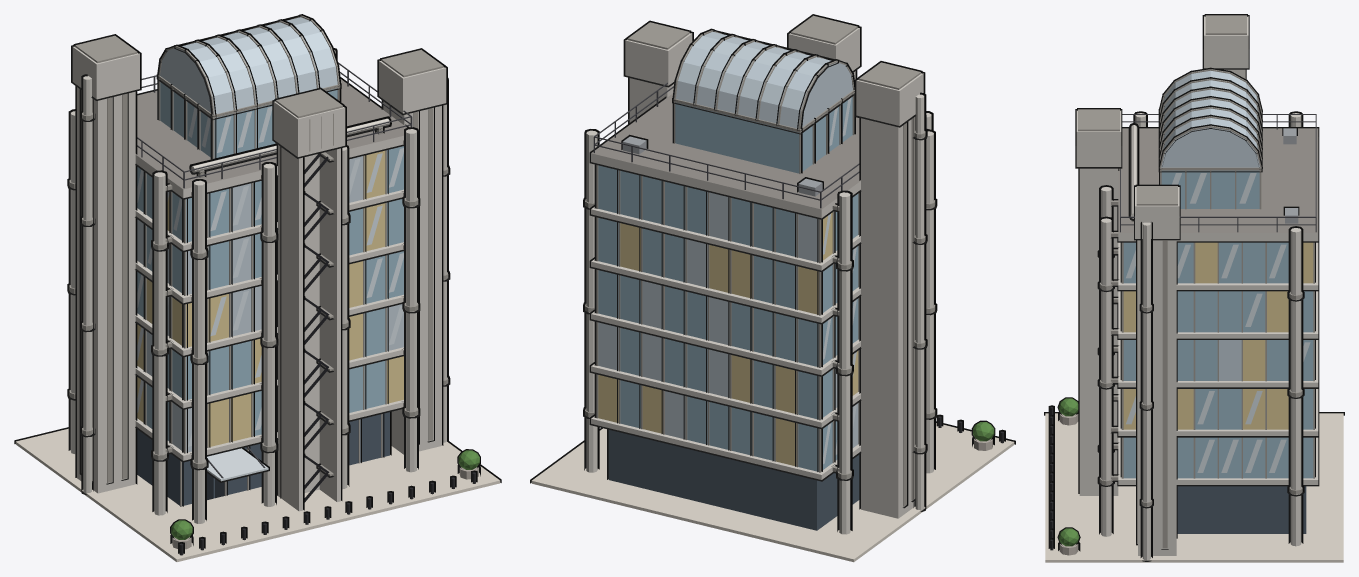
Rendered from OfisKulesi_karisik_1_3.fbx.
3 renders of one model, left to right at view 1: azimuth 30°, elevation 25°; view 2: azimuth 150°, elevation 25°; view 3: azimuth 270°, elevation 25°, orthographic. The views are drawn at different scales.
Visible parts, largest first — view 1: OfisKulesi_karisik_1_3; view 2: OfisKulesi_karisik_1_3; view 3: OfisKulesi_karisik_1_3.
Boxes of the visible parts, x1,y1,x2,y2 form: OfisKulesi_karisik_1_3: [14, 14, 501, 561]; OfisKulesi_karisik_1_3: [530, 14, 1015, 562]; OfisKulesi_karisik_1_3: [1044, 14, 1344, 562].
Size of the model in its own units: 23.78 by 29.92 by 20.14.
